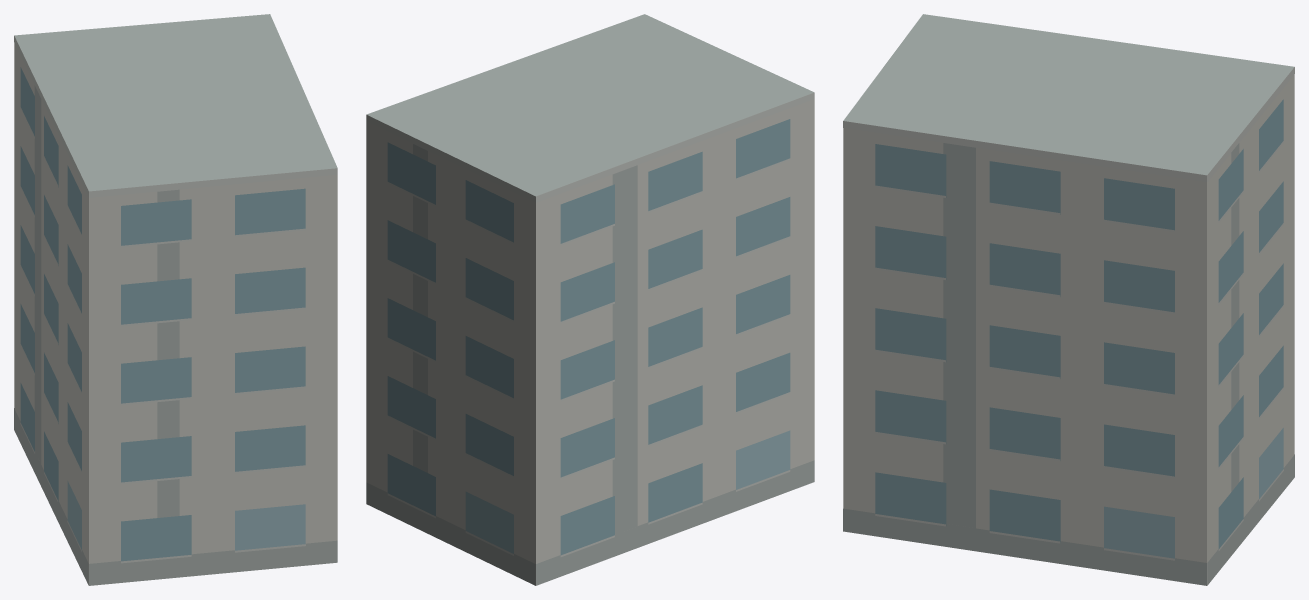
File: survey-upis-32964281.glb
The picture shows the model from 3 angles, left to right: view 1: azimuth 30°, elevation 25°; view 2: azimuth 150°, elevation 25°; view 3: azimuth 270°, elevation 25°; orthographic projection. The views are drawn at different scales.
Parts seen in each view (by area): view 1: survey-upis-32964281.tmp; view 2: survey-upis-32964281.tmp; view 3: survey-upis-32964281.tmp.
Boxes of the visible parts, box(x1,y1,x2,y2) form: survey-upis-32964281.tmp: box(14, 14, 337, 585); survey-upis-32964281.tmp: box(366, 14, 814, 585); survey-upis-32964281.tmp: box(843, 14, 1294, 585).
Bounding box in the file's own units: 12.11 × 14.35 × 14.32.
